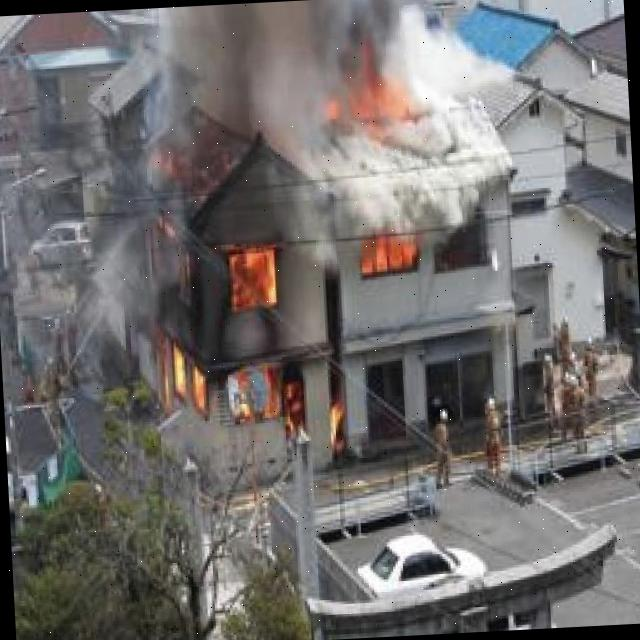fire: (142, 192, 308, 434), (315, 49, 429, 127), (359, 232, 425, 282)
